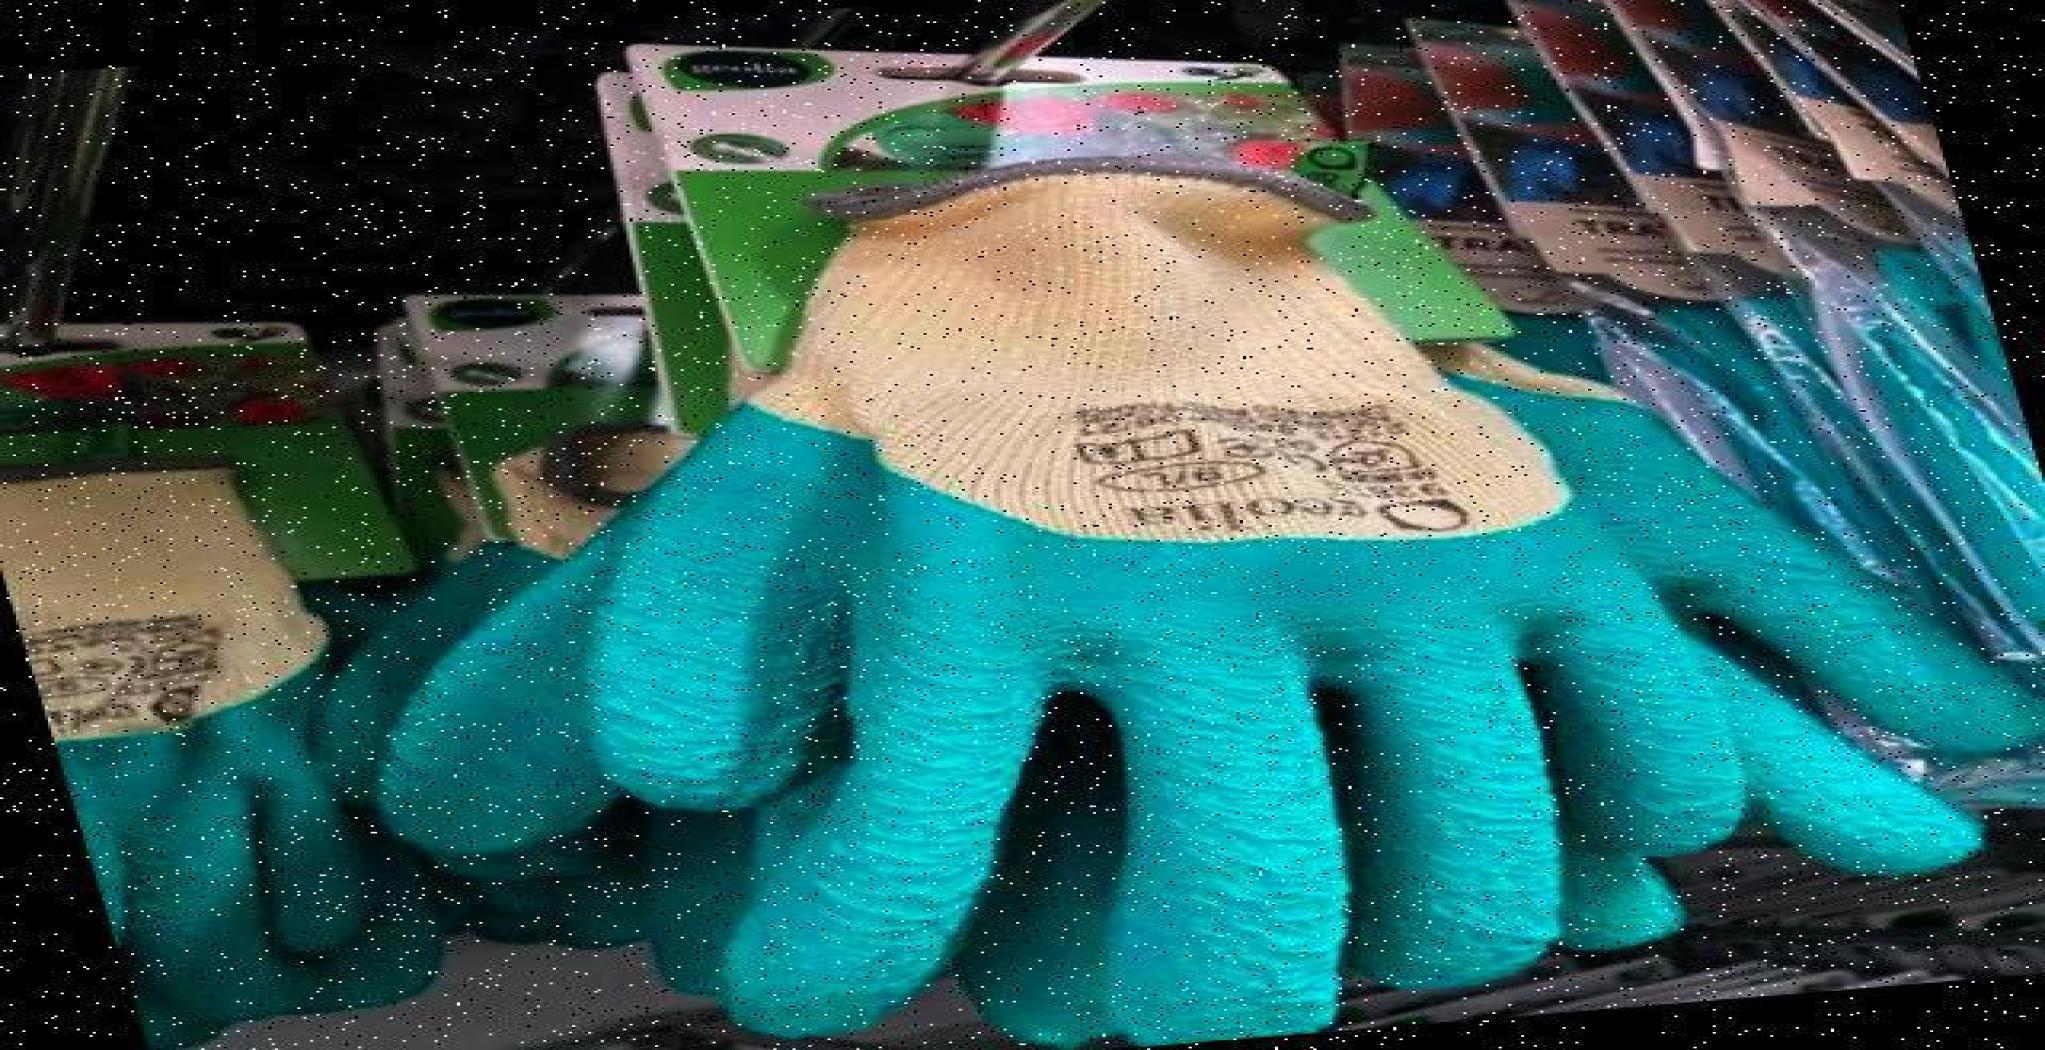gloved: (611, 190, 1783, 1014)
